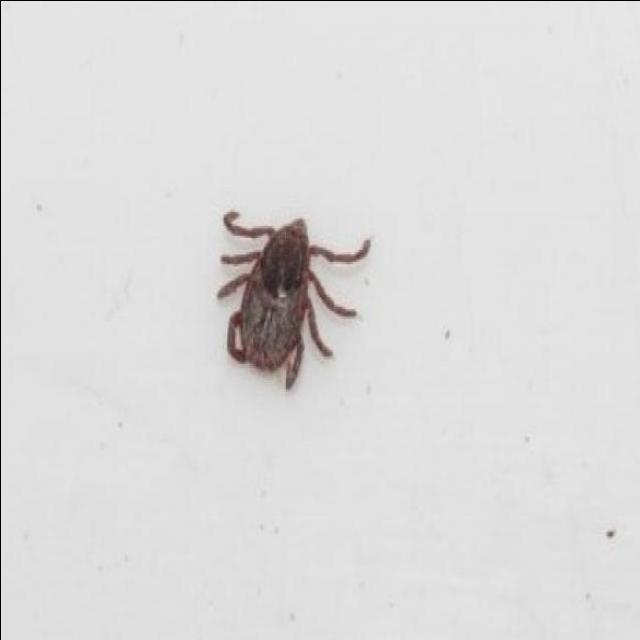Rhipicephalus Sanguineus-F: (215, 206, 371, 389)
